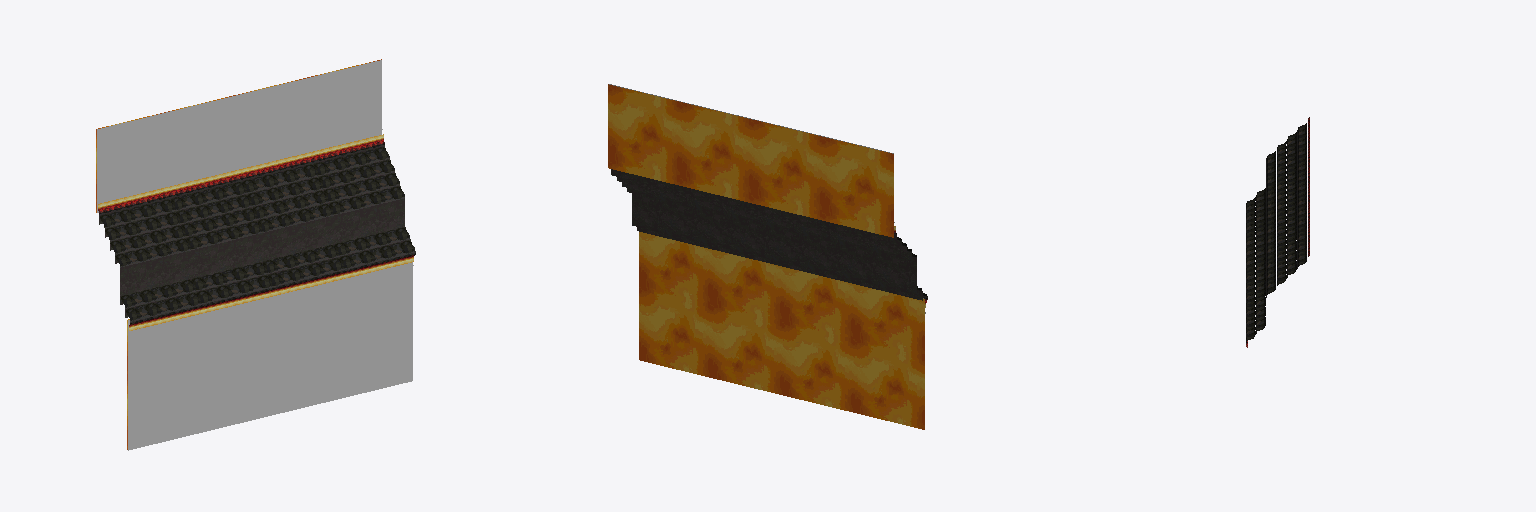
The picture shows the model from 3 angles: view 1: azimuth 30°, elevation 25°; view 2: azimuth 150°, elevation 25°; view 3: azimuth 270°, elevation 25°; orthographic projection.
Parts seen in each view (by area): view 1: map; view 2: map; view 3: map.
Boxes of the visible parts, x1,y1,x2,y2 form: map: [96, 59, 415, 450]; map: [608, 84, 927, 429]; map: [1246, 117, 1309, 347].
Size of the model in its own units: 32 by 32 by 6.62.
9 materials, 7 textured.